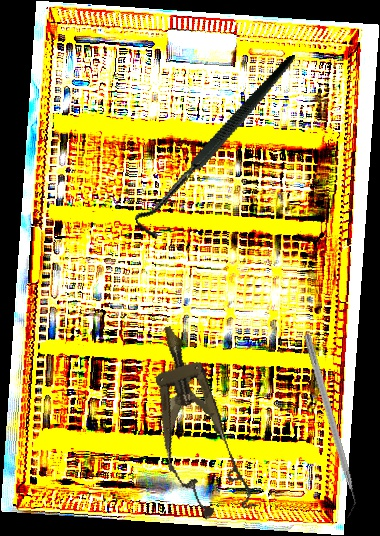Chopper: (293, 333, 363, 520)
Hook Surgical: (100, 54, 338, 243)
Speculum: (131, 316, 259, 527)
